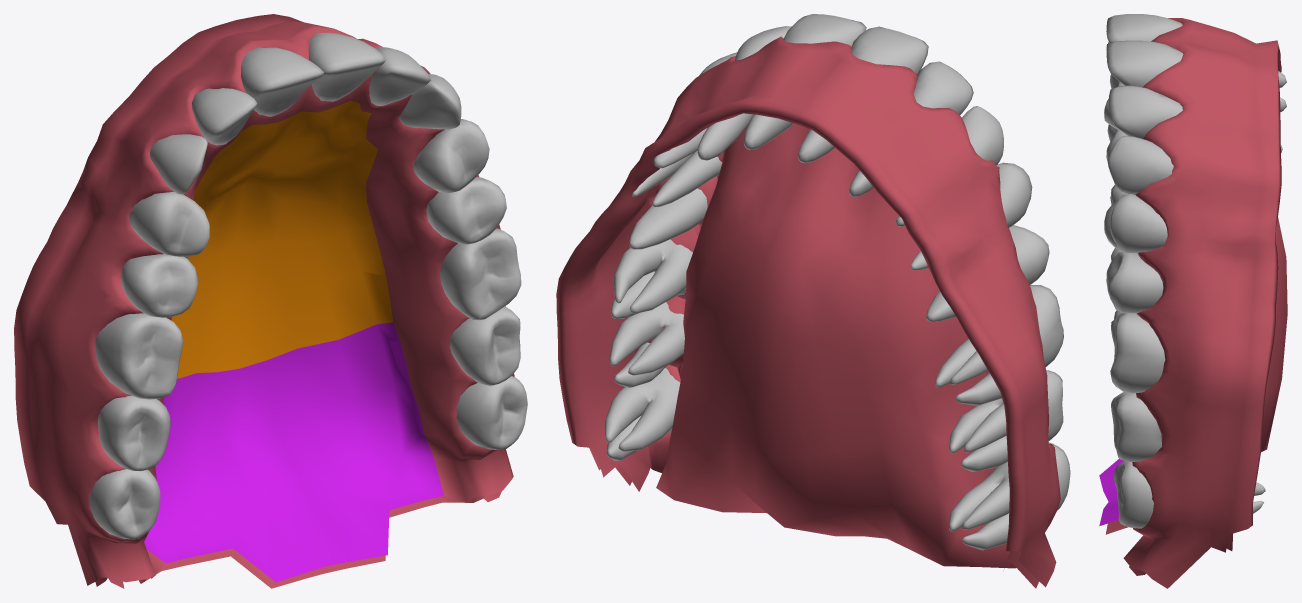
The model's file is upper_mouth.glb.
The picture shows the model from 3 angles, left to right: view 1: azimuth 30°, elevation 25°; view 2: azimuth 150°, elevation 25°; view 3: azimuth 270°, elevation 25°; orthographic projection. The views are drawn at different scales.
Visible parts, largest first — view 1: upper_gum_m, upper_teeth.001; view 2: upper_gum_m, upper_teeth.001; view 3: upper_gum_m, upper_teeth.001.
Part boxes in pixels (bbox=[...]): upper_gum_m: bbox=[14, 14, 514, 588]; upper_teeth.001: bbox=[89, 32, 527, 539]; upper_gum_m: bbox=[556, 36, 1060, 588]; upper_teeth.001: bbox=[604, 14, 1070, 550]; upper_gum_m: bbox=[1099, 18, 1287, 588]; upper_teeth.001: bbox=[1104, 14, 1286, 528].
Bounding box in the file's own units: 4.44 × 4.72 × 1.69.
